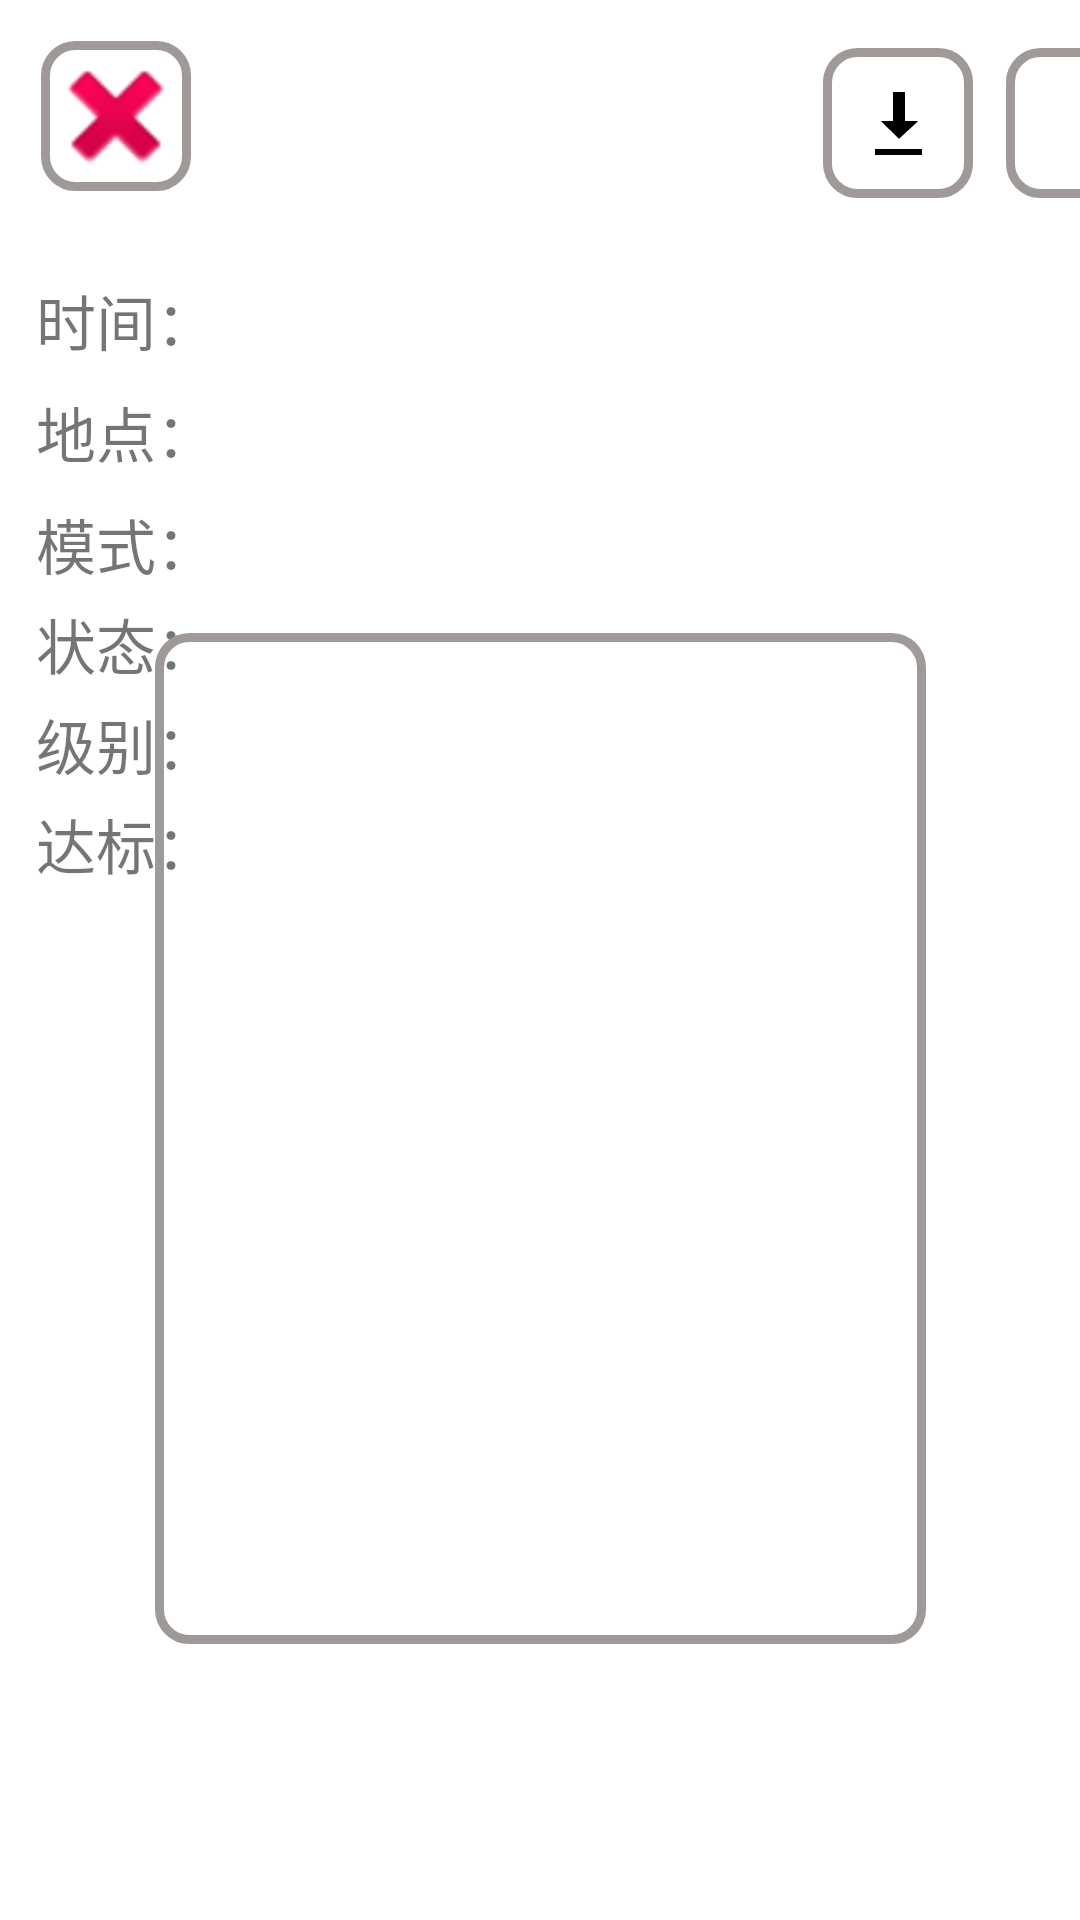

Icons on this 1080x1920 Android screen, each with the point to tap as (x,y):
delete: (116,116)
